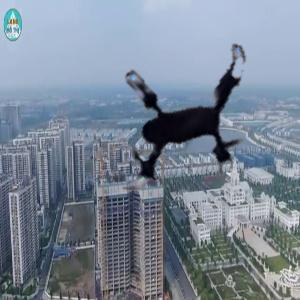drone: (72, 8, 280, 216)
